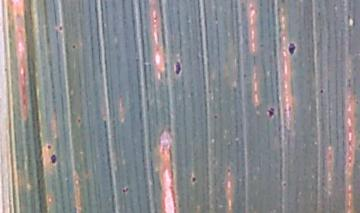tarspot: (172, 55, 183, 77), (264, 103, 277, 119), (286, 38, 297, 56), (49, 152, 58, 166), (120, 183, 130, 195), (55, 22, 65, 33), (45, 142, 54, 152), (69, 40, 78, 50), (211, 111, 219, 121), (75, 115, 83, 124), (189, 175, 197, 183), (281, 180, 288, 189), (318, 88, 325, 96)
